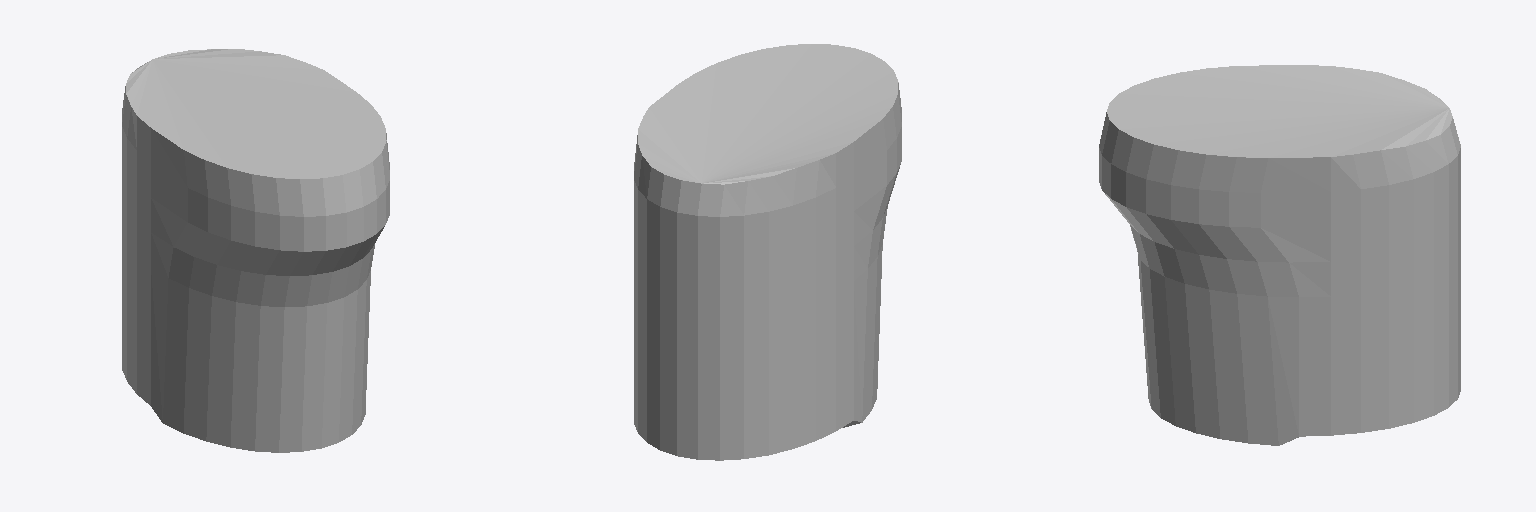
File: Tartaruga-pataTE.obj
3 renders of one model, left to right at view 1: azimuth 30°, elevation 25°; view 2: azimuth 150°, elevation 25°; view 3: azimuth 270°, elevation 25°, orthographic.
Visible parts, largest first — view 1: Tartaruga-pataTE_Cylinder.002; view 2: Tartaruga-pataTE_Cylinder.002; view 3: Tartaruga-pataTE_Cylinder.002.
Boxes of the visible parts, box(x1,y1,x2,y2) form: Tartaruga-pataTE_Cylinder.002: box(122, 49, 389, 452); Tartaruga-pataTE_Cylinder.002: box(634, 44, 901, 460); Tartaruga-pataTE_Cylinder.002: box(1099, 65, 1460, 445).
Size of the model in its own units: 0.2912 by 0.421 by 0.4782.